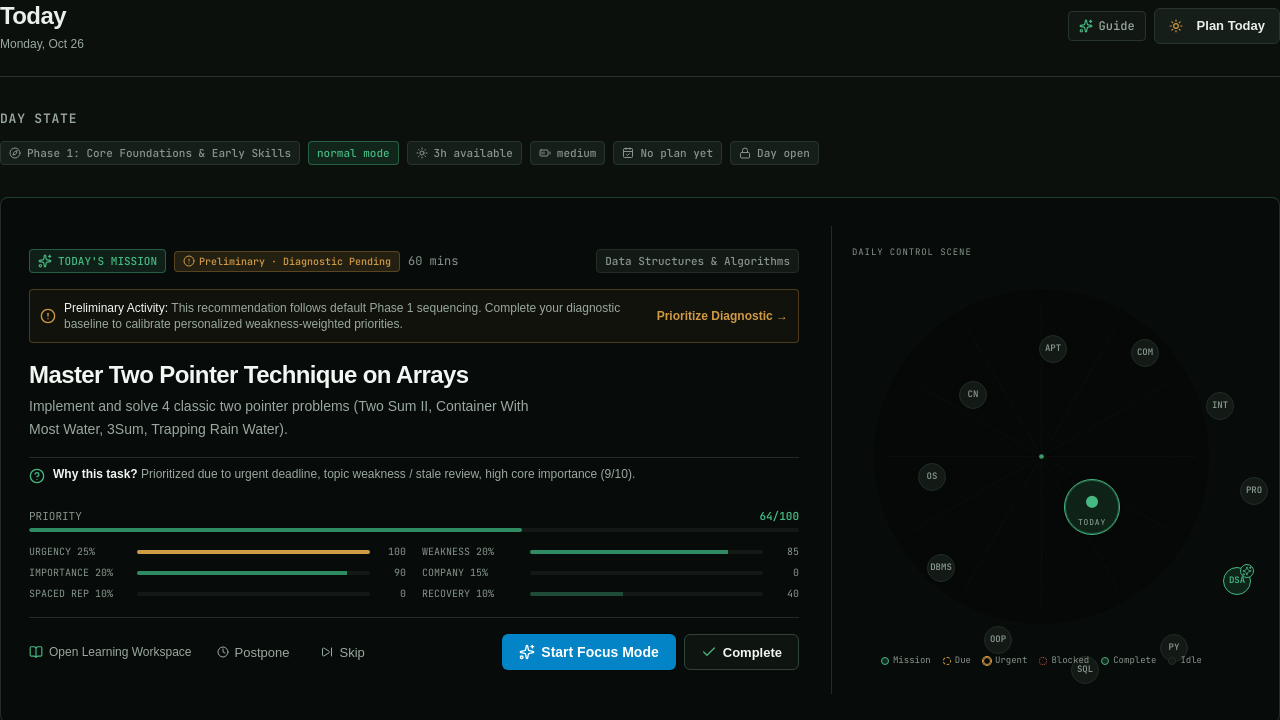
Test: C7-07 — completion animation › F2. Undo reverses the completion through the C2 transaction restore
Click the button with test id "complete-primary".
click(741, 652)  # box [684, 634, 799, 670]
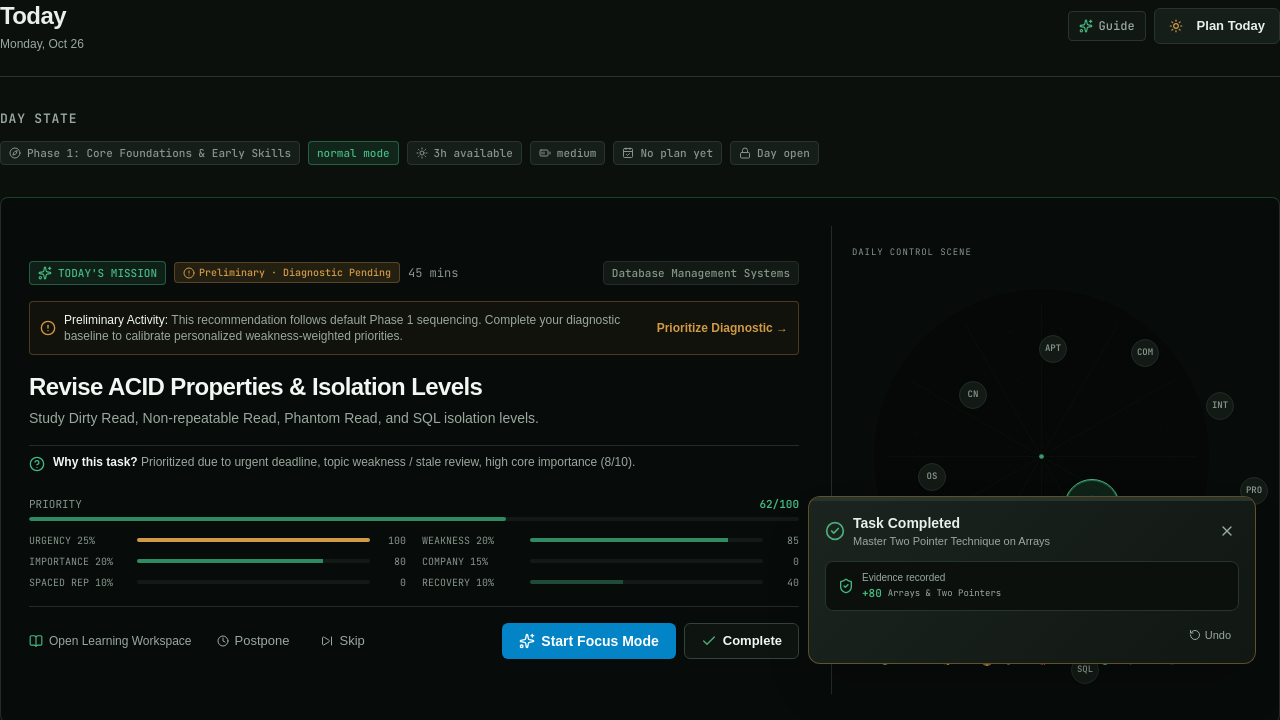
Click the button with test id "completion-undo".
click(1210, 635)  # box [1181, 622, 1239, 647]
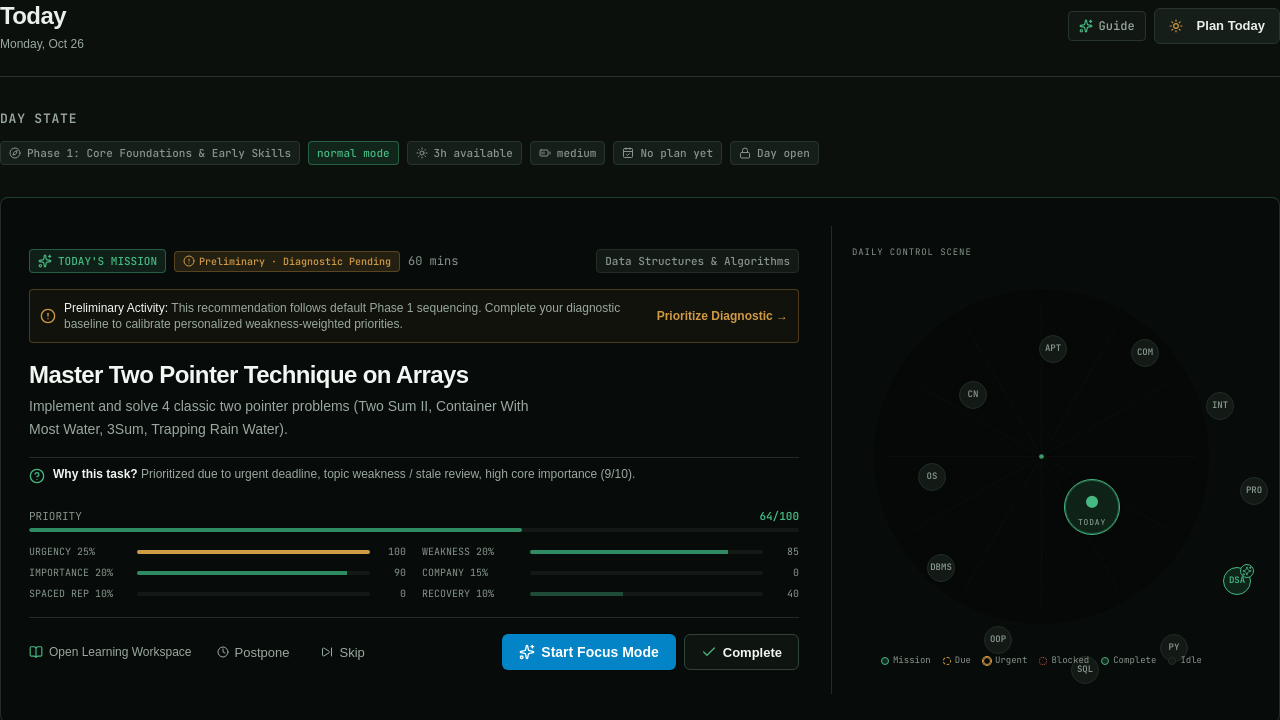
Now the message with test id "completion-animation" is gone
